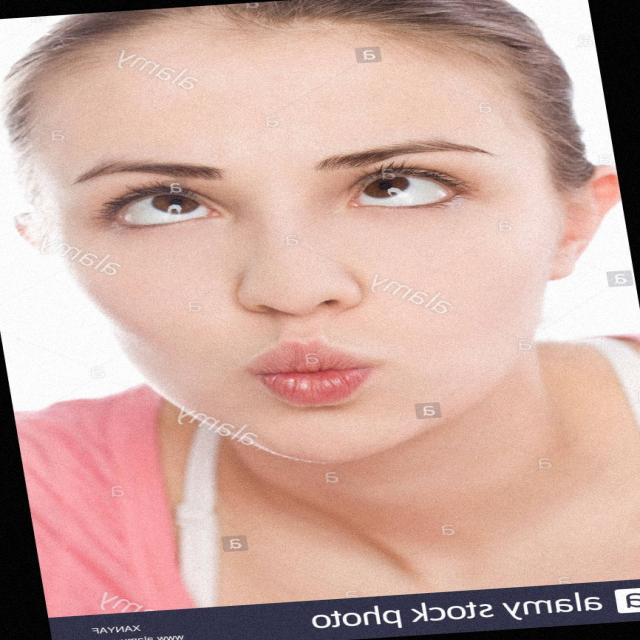Squint: (338, 162, 476, 220), (86, 184, 242, 233)
